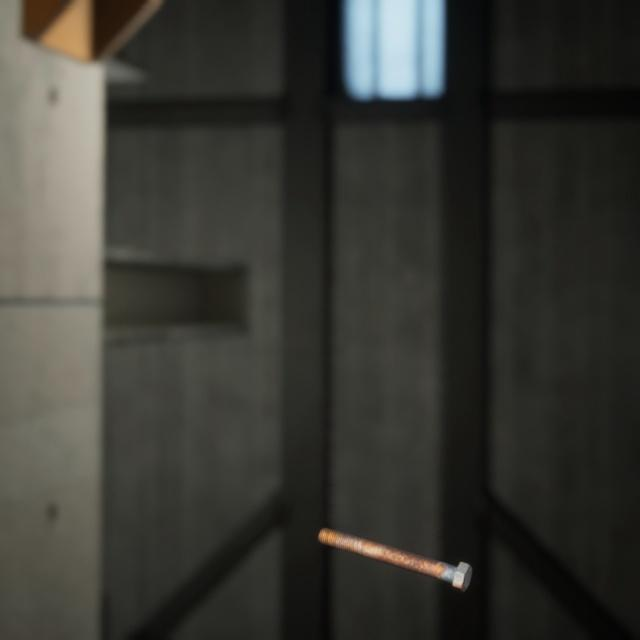bolt: (313, 502, 476, 574)
